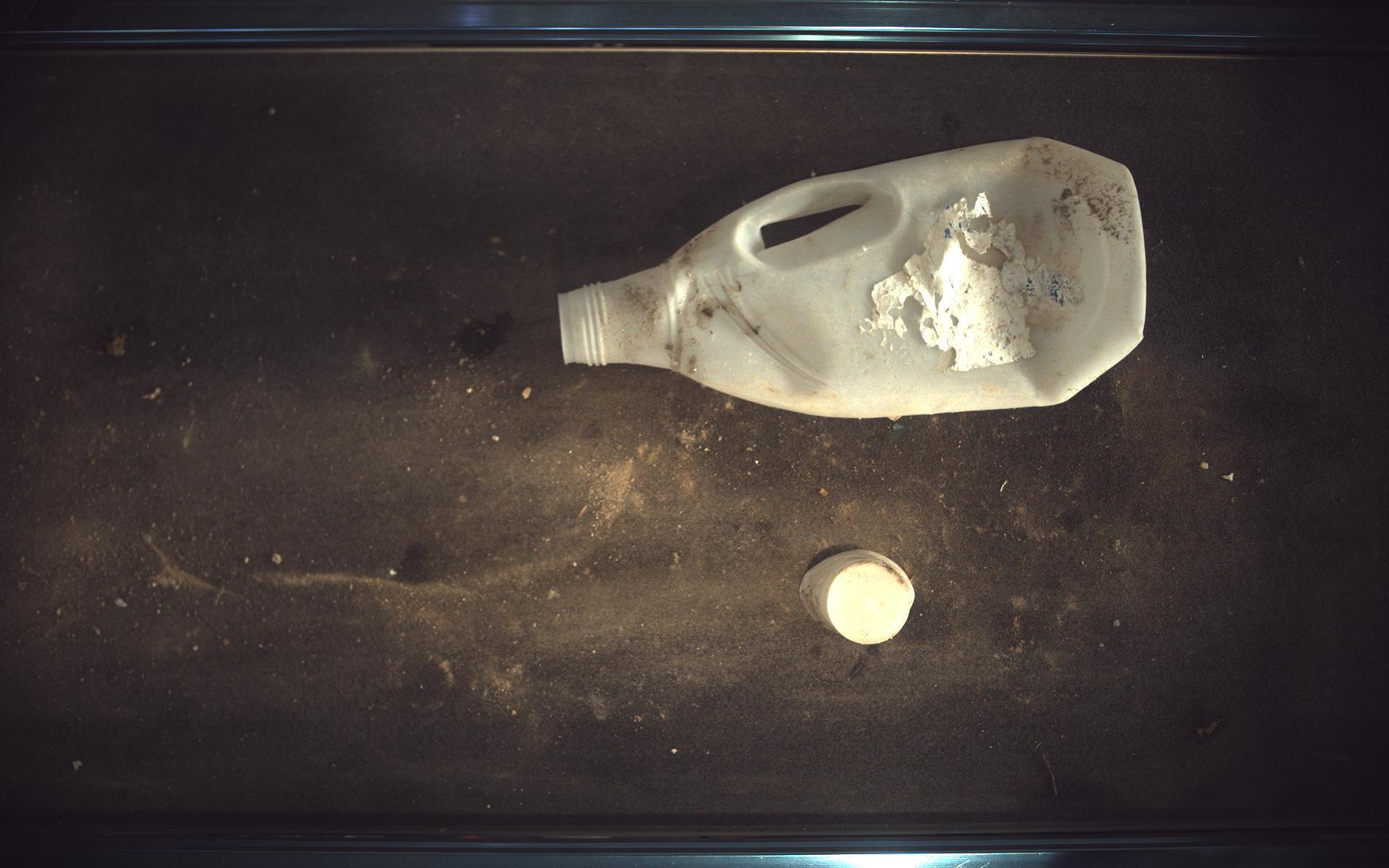general_w: (559, 137, 1148, 419), (802, 550, 917, 646)
